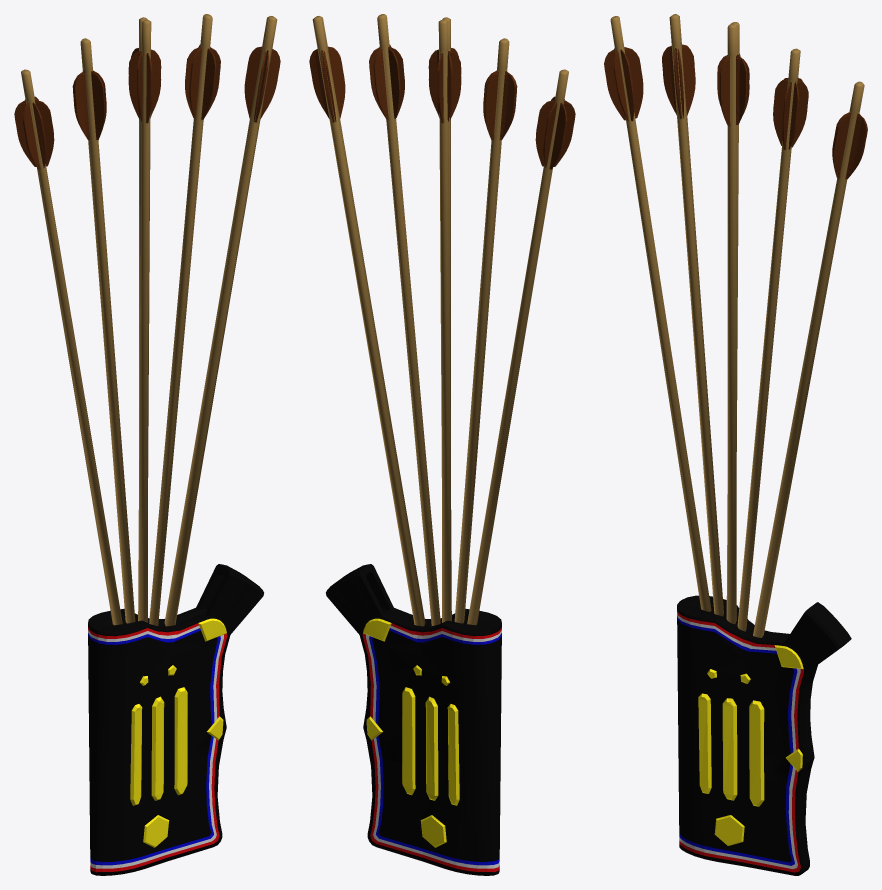
Rendered from quiver.glb.
3 views of the same model, side by side, from view 1: azimuth 30°, elevation 25°; view 2: azimuth 150°, elevation 25°; view 3: azimuth 330°, elevation 25° (orthographic).
Visible parts, largest first — view 1: Quiver; view 2: Quiver; view 3: Quiver.
Boxes of the visible parts, x1,y1,x2,y2 form: Quiver: (14,14,280,875); Quiver: (309,14,575,875); Quiver: (604,14,867,875).
Size of the model in its own units: 0.4431 by 1.36 by 0.075.
